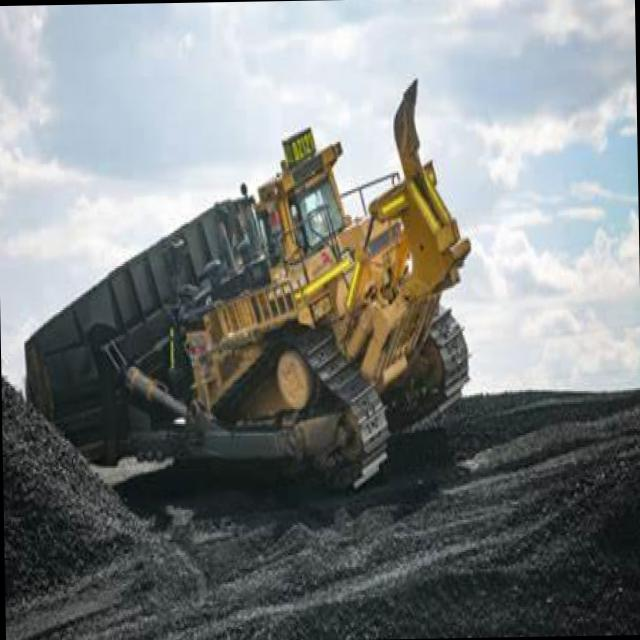Bulldozer: (14, 66, 470, 508)
